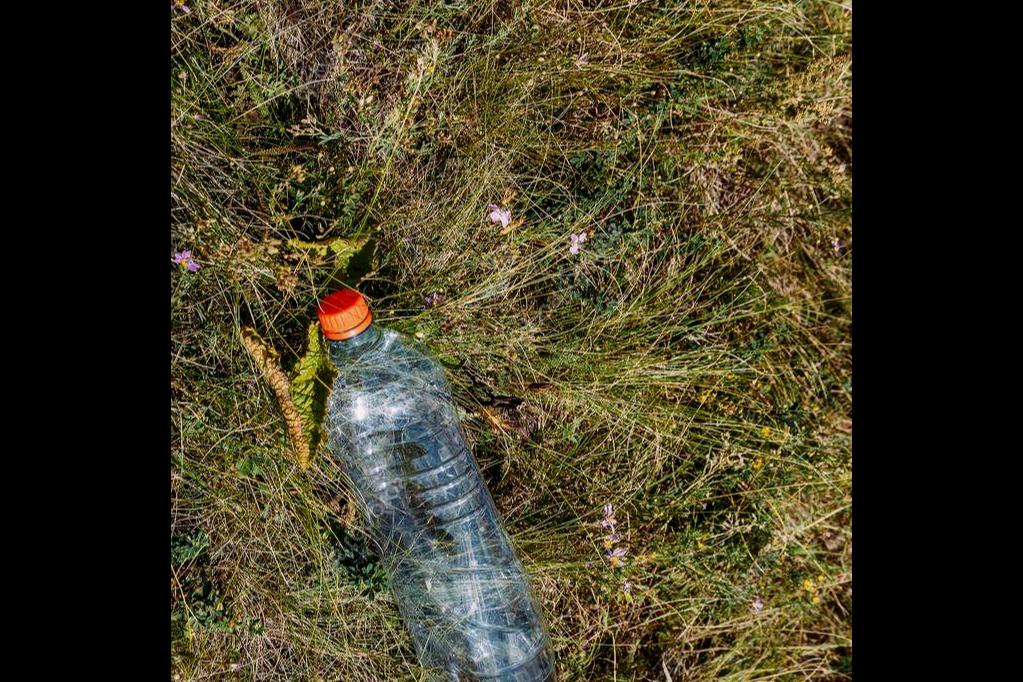bottle: (300, 272, 572, 682)
